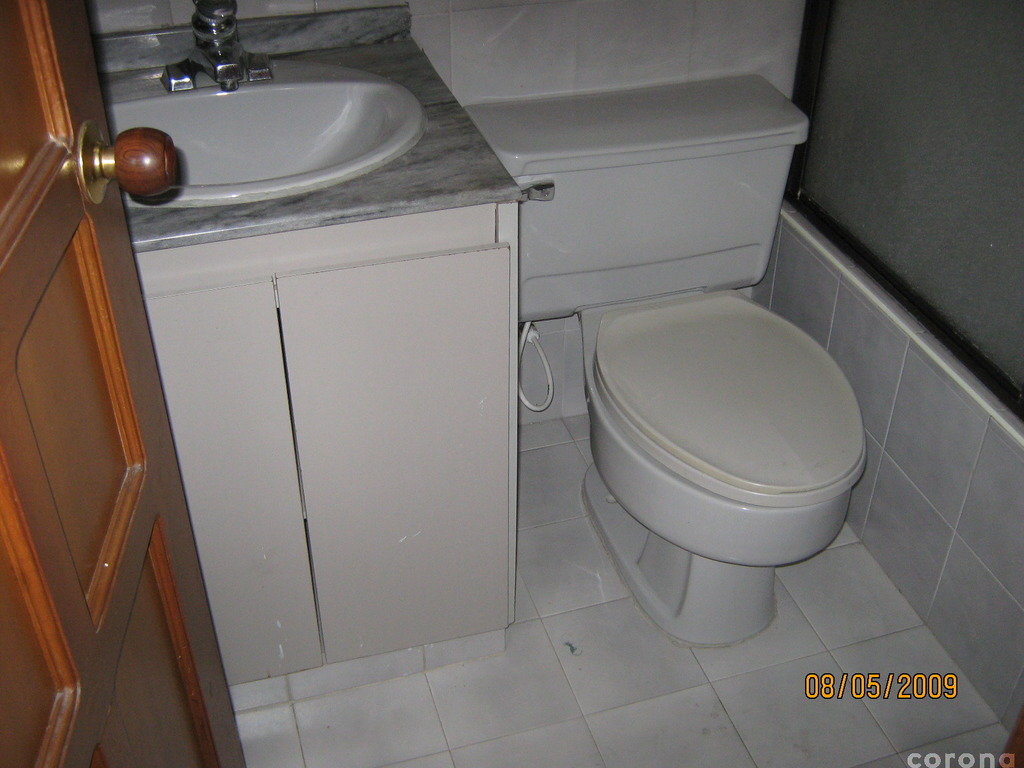tap: (163, 2, 279, 94)
